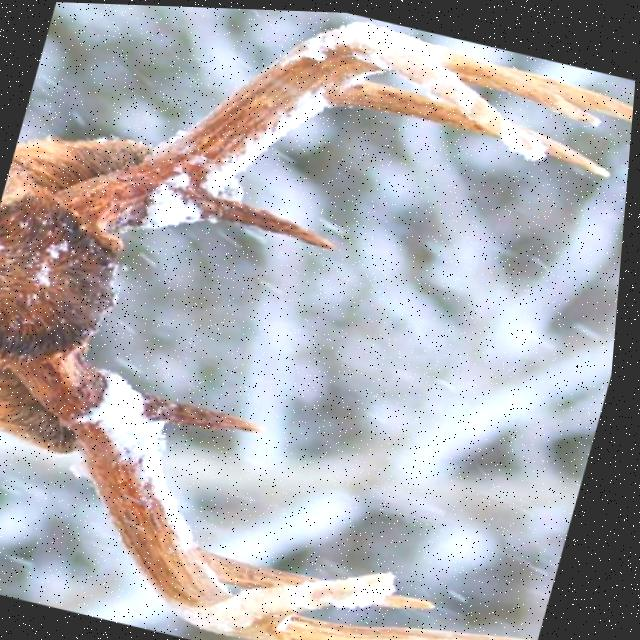L-F: (2, 342, 405, 633)
L-G1: (141, 389, 274, 430)
R-F: (51, 18, 536, 252)
R-G1: (199, 191, 342, 247)
